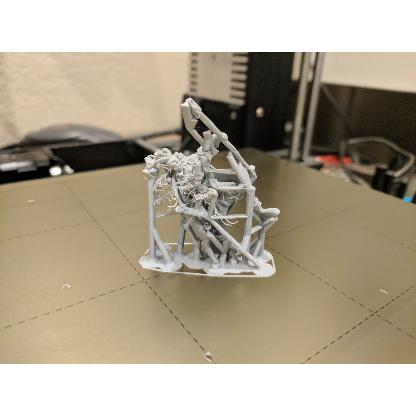fail: (150, 168, 208, 216)
